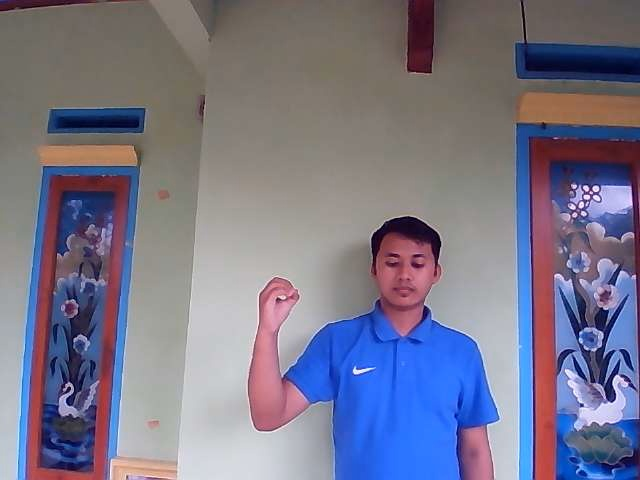O: (255, 276, 300, 334)
